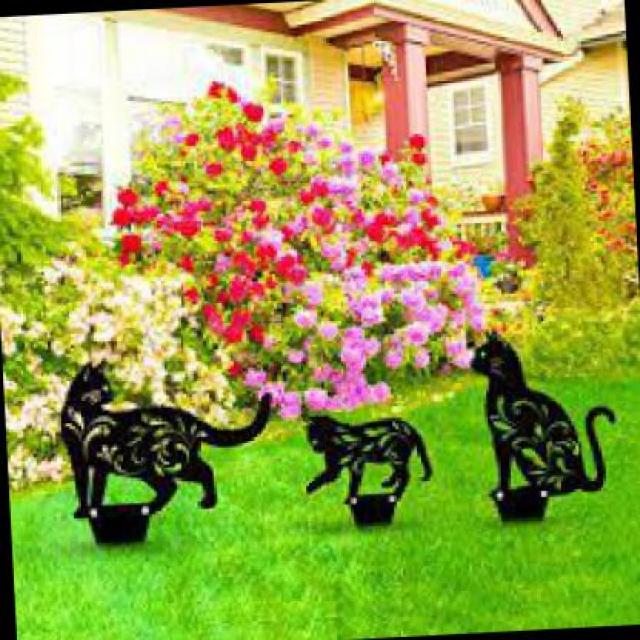animals: (54, 348, 286, 515), (453, 324, 625, 488), (282, 407, 436, 504)
